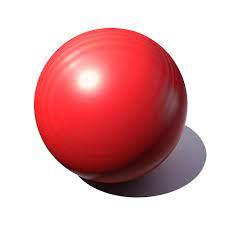red_circle: (24, 21, 196, 194)
